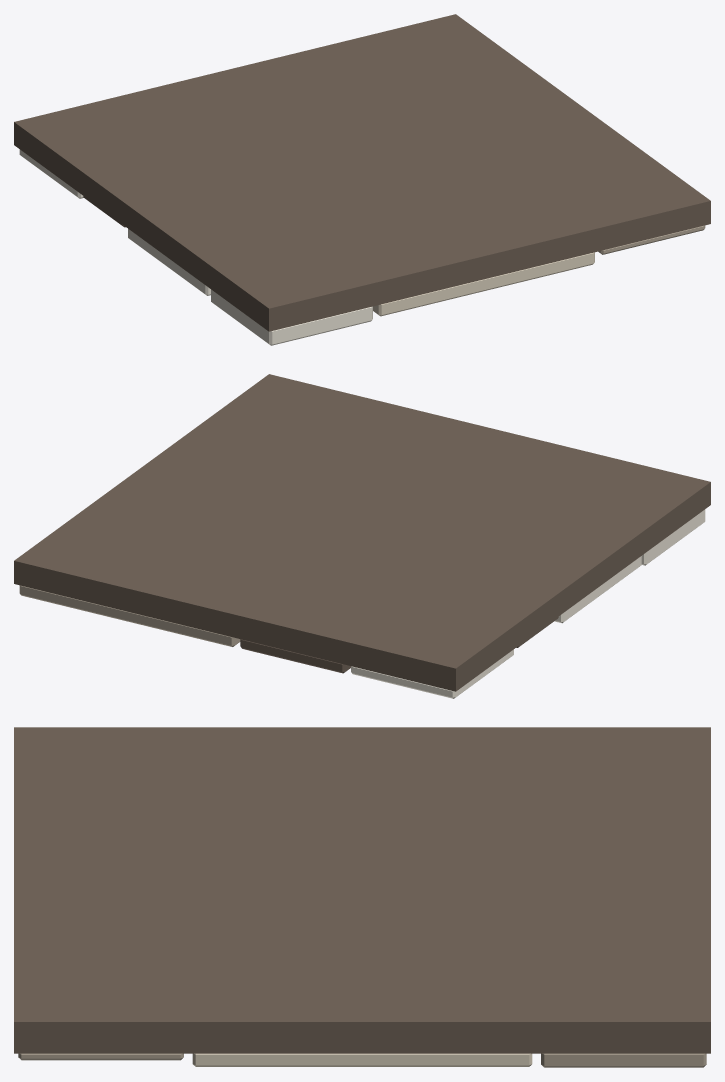
File: ceil_du_light.glb
3 views of the same model, one above another, from view 1: azimuth 30°, elevation 25°; view 2: azimuth 150°, elevation 25°; view 3: azimuth 270°, elevation 25° (orthographic). The views are drawn at different scales.
Parts seen in each view (by area): view 1: ceil_du_light; view 2: ceil_du_light; view 3: ceil_du_light.
Part boxes in pixels (bbox=[...]): ceil_du_light: bbox=[14, 14, 710, 345]; ceil_du_light: bbox=[14, 374, 710, 698]; ceil_du_light: bbox=[14, 727, 710, 1067].
Size of the model in its own units: 4 by 0.4478 by 4.
